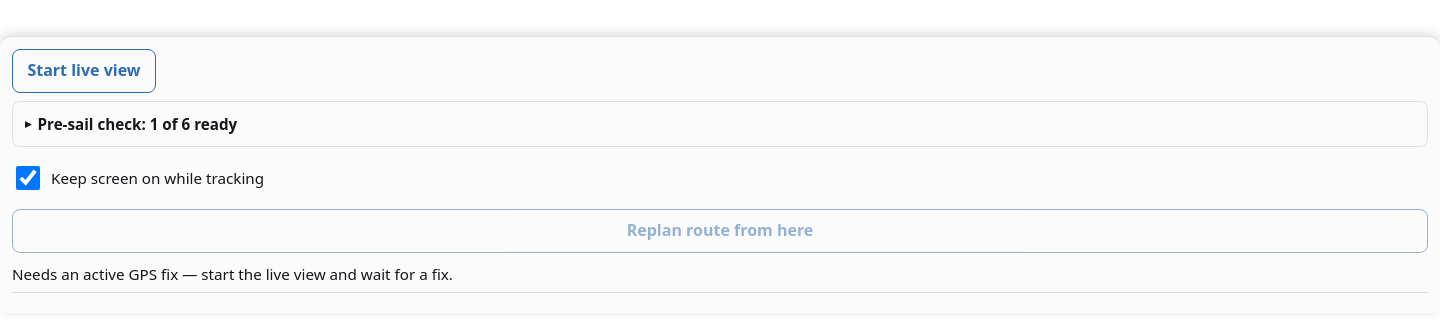
LiveView › GPS states (#1802) › waiting: shows the waiting status and a waiting reason on the disabled reroute button
Click the button "Start live view": coordinates (84, 71) [12,49,156,93]
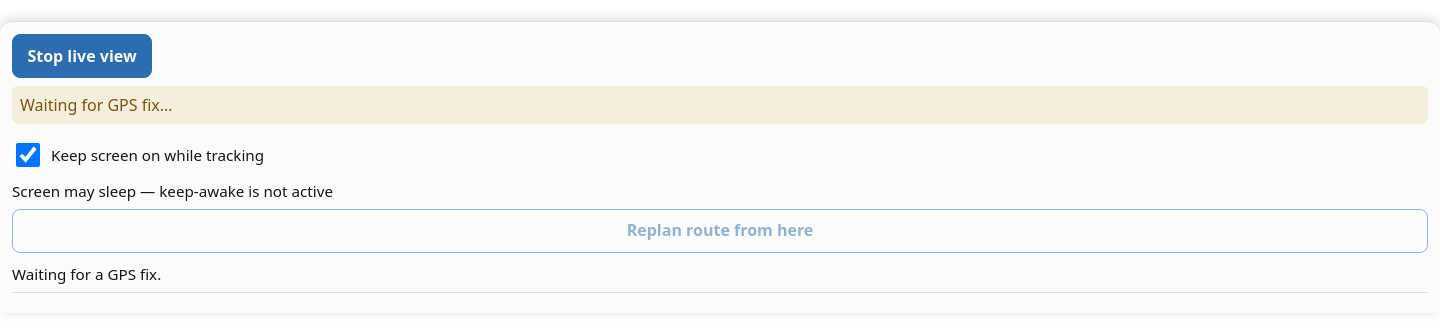
expect the button "Replan route from here" is disabled: met, box [12,209,1428,253]
expect the text "Waiting for GPS fix…" is shown: met, box [12,86,1428,124]
expect the text "Waiting for a GPS fix." is shown: met, box [12,264,161,284]
